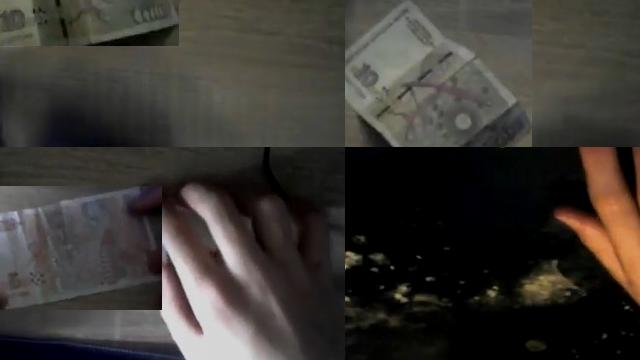10leva: (345, 0, 532, 147)
5leva: (0, 186, 162, 310)
